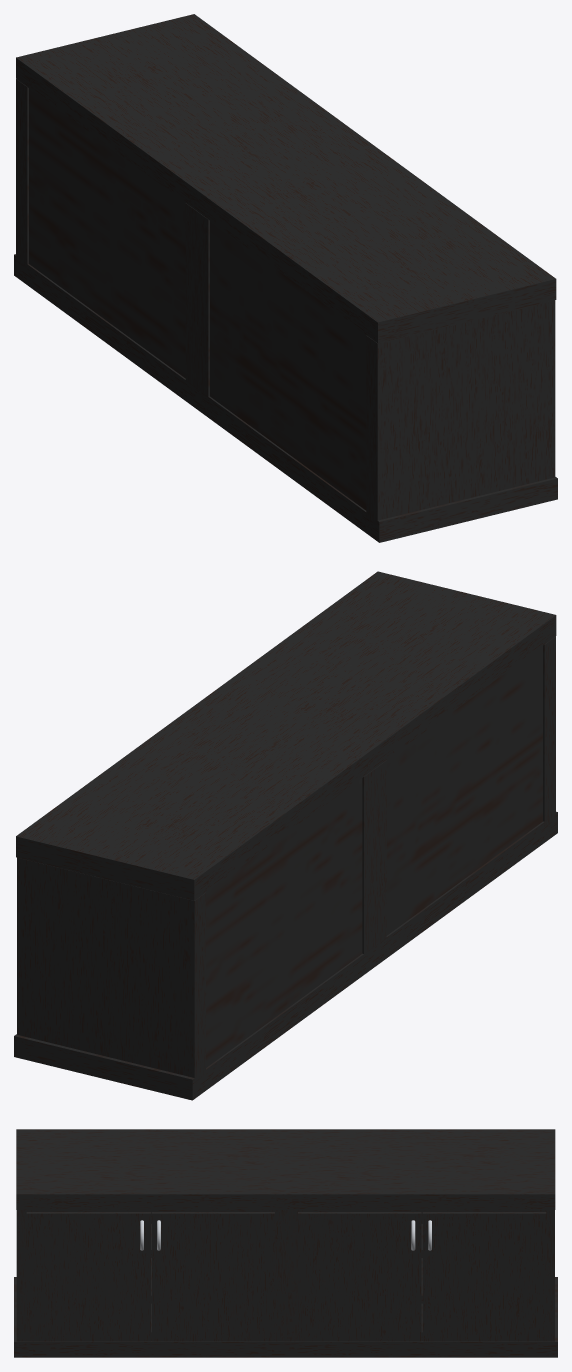
The model's file is Study Cuboard.fbx.
3 renders of one model, top to bottom at view 1: azimuth 30°, elevation 25°; view 2: azimuth 150°, elevation 25°; view 3: azimuth 270°, elevation 25°, orthographic. The views are drawn at different scales.
Parts seen in each view (by area): view 1: Cupboard_GEO; view 2: Cupboard_GEO; view 3: Cupboard_GEO, L_Door_1_GEO, R_Door_2_GEO, L_Door_2_GEO, R_Door_1_GEO.
Part boxes in pixels (x1=…): Cupboard_GEO: x1=14, y1=14, x2=557, y2=542; Cupboard_GEO: x1=14, y1=571, x2=557, y2=1100; Cupboard_GEO: x1=14, y1=1129, x2=557, y2=1357; L_Door_1_GEO: x1=26, y1=1212, x2=150, y2=1341; R_Door_2_GEO: x1=422, y1=1212, x2=546, y2=1341; L_Door_2_GEO: x1=151, y1=1212, x2=274, y2=1341; R_Door_1_GEO: x1=298, y1=1212, x2=421, y2=1341.
Bounding box in the file's own units: 107 × 117 × 354.
